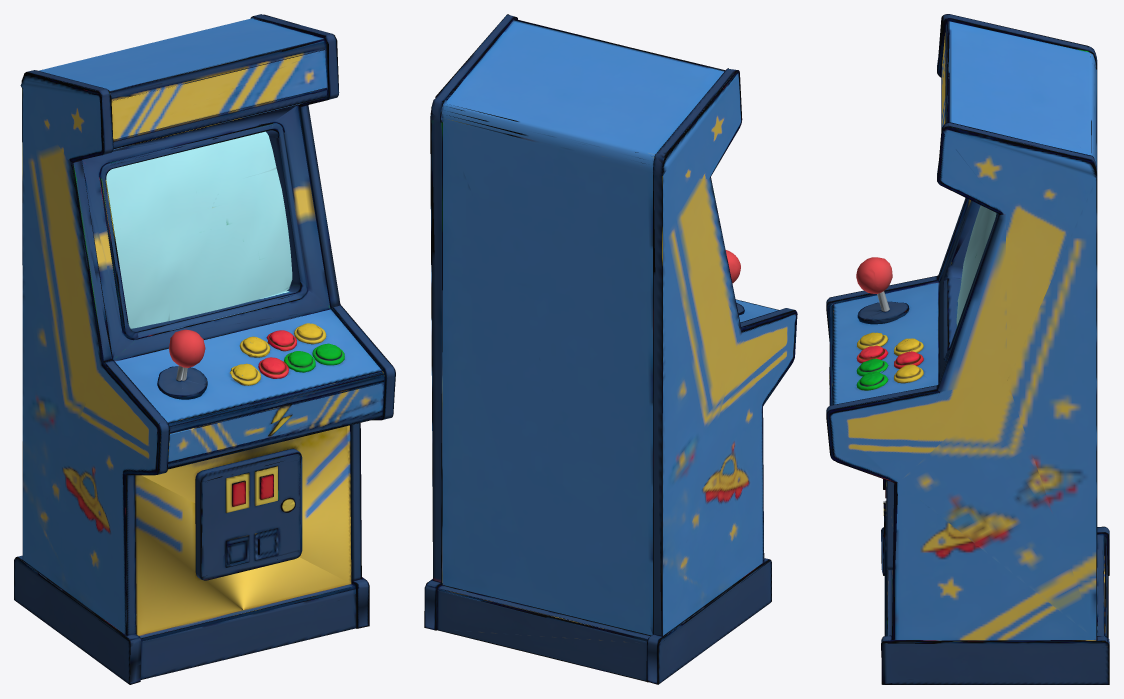
The model's file is arcade_cabinet.glb.
The picture shows the model from 3 angles, left to right: view 1: azimuth 30°, elevation 25°; view 2: azimuth 150°, elevation 25°; view 3: azimuth 270°, elevation 25°; orthographic projection. The views are drawn at different scales.
Visible parts, largest first — view 1: geometry_0; view 2: geometry_0; view 3: geometry_0.
Part boxes in pixels (bbox=[...]): geometry_0: bbox=[14, 14, 395, 684]; geometry_0: bbox=[424, 14, 797, 684]; geometry_0: bbox=[826, 14, 1109, 684].
Size of the model in its own units: 0.4199 by 0.9507 by 0.438.
1 material, 1 textured.
